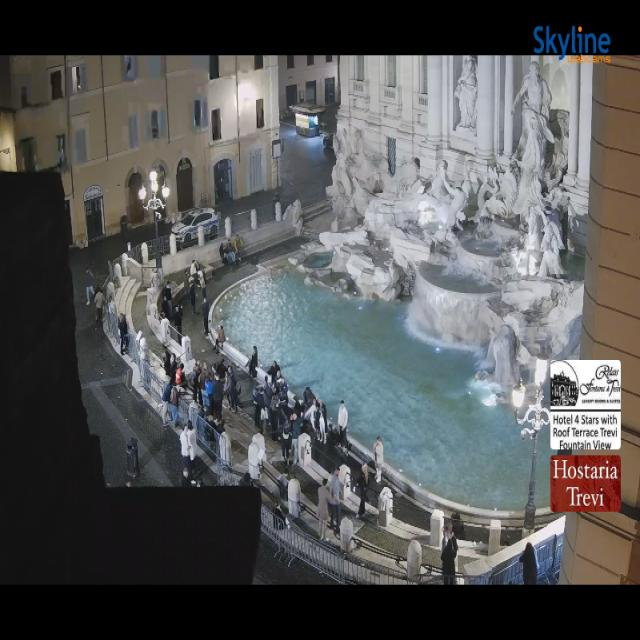person: (441, 525, 457, 584), (318, 478, 330, 541), (520, 543, 538, 584), (329, 469, 341, 528), (357, 462, 369, 519), (187, 420, 197, 484), (180, 426, 192, 479), (291, 411, 302, 464), (211, 373, 223, 421), (228, 365, 240, 412), (252, 386, 264, 432), (315, 398, 327, 443), (281, 413, 291, 467), (304, 398, 317, 437), (263, 376, 274, 422), (162, 379, 172, 424), (270, 393, 279, 442), (338, 400, 347, 447), (442, 522, 457, 550), (374, 437, 383, 483), (199, 363, 208, 408), (118, 315, 128, 355), (204, 413, 219, 439), (192, 362, 201, 404), (292, 398, 303, 432), (316, 406, 326, 443), (278, 385, 289, 417), (170, 385, 179, 424), (203, 373, 212, 412), (223, 376, 233, 410), (273, 504, 286, 530), (205, 370, 215, 403), (164, 282, 173, 318), (452, 512, 464, 539), (248, 346, 258, 378), (192, 360, 203, 388), (317, 398, 328, 425), (95, 290, 103, 327), (86, 269, 94, 305), (259, 406, 269, 434), (268, 360, 280, 383), (174, 305, 183, 335), (215, 325, 225, 352), (203, 296, 209, 337), (303, 388, 315, 408), (180, 468, 192, 488), (233, 235, 243, 259), (304, 388, 315, 409), (216, 360, 227, 381), (228, 242, 239, 263), (176, 362, 185, 387), (189, 277, 195, 314), (225, 242, 235, 264), (198, 270, 206, 297), (170, 355, 177, 385), (239, 472, 253, 487), (165, 280, 173, 304), (214, 177, 222, 201), (161, 296, 170, 317), (164, 350, 171, 377), (276, 375, 287, 392), (197, 266, 205, 289), (107, 296, 116, 316), (166, 280, 173, 304), (274, 371, 282, 392), (196, 406, 207, 421), (441, 525, 447, 551), (186, 272, 198, 285), (220, 243, 227, 264), (190, 260, 199, 276), (196, 406, 207, 419), (164, 280, 171, 299), (187, 273, 198, 285), (223, 242, 229, 263), (184, 270, 190, 290), (556, 449, 571, 455), (224, 242, 228, 263), (160, 311, 166, 321), (125, 480, 132, 488), (196, 260, 201, 270)
